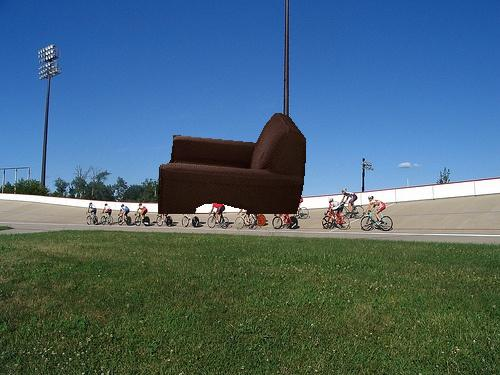tampered: (159, 114, 306, 214)
